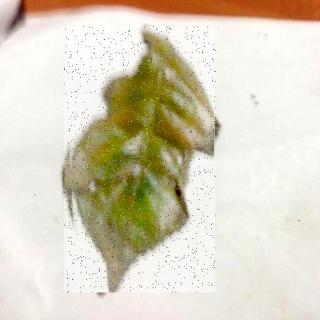Red Leaf Spot: (66, 28, 217, 294)
